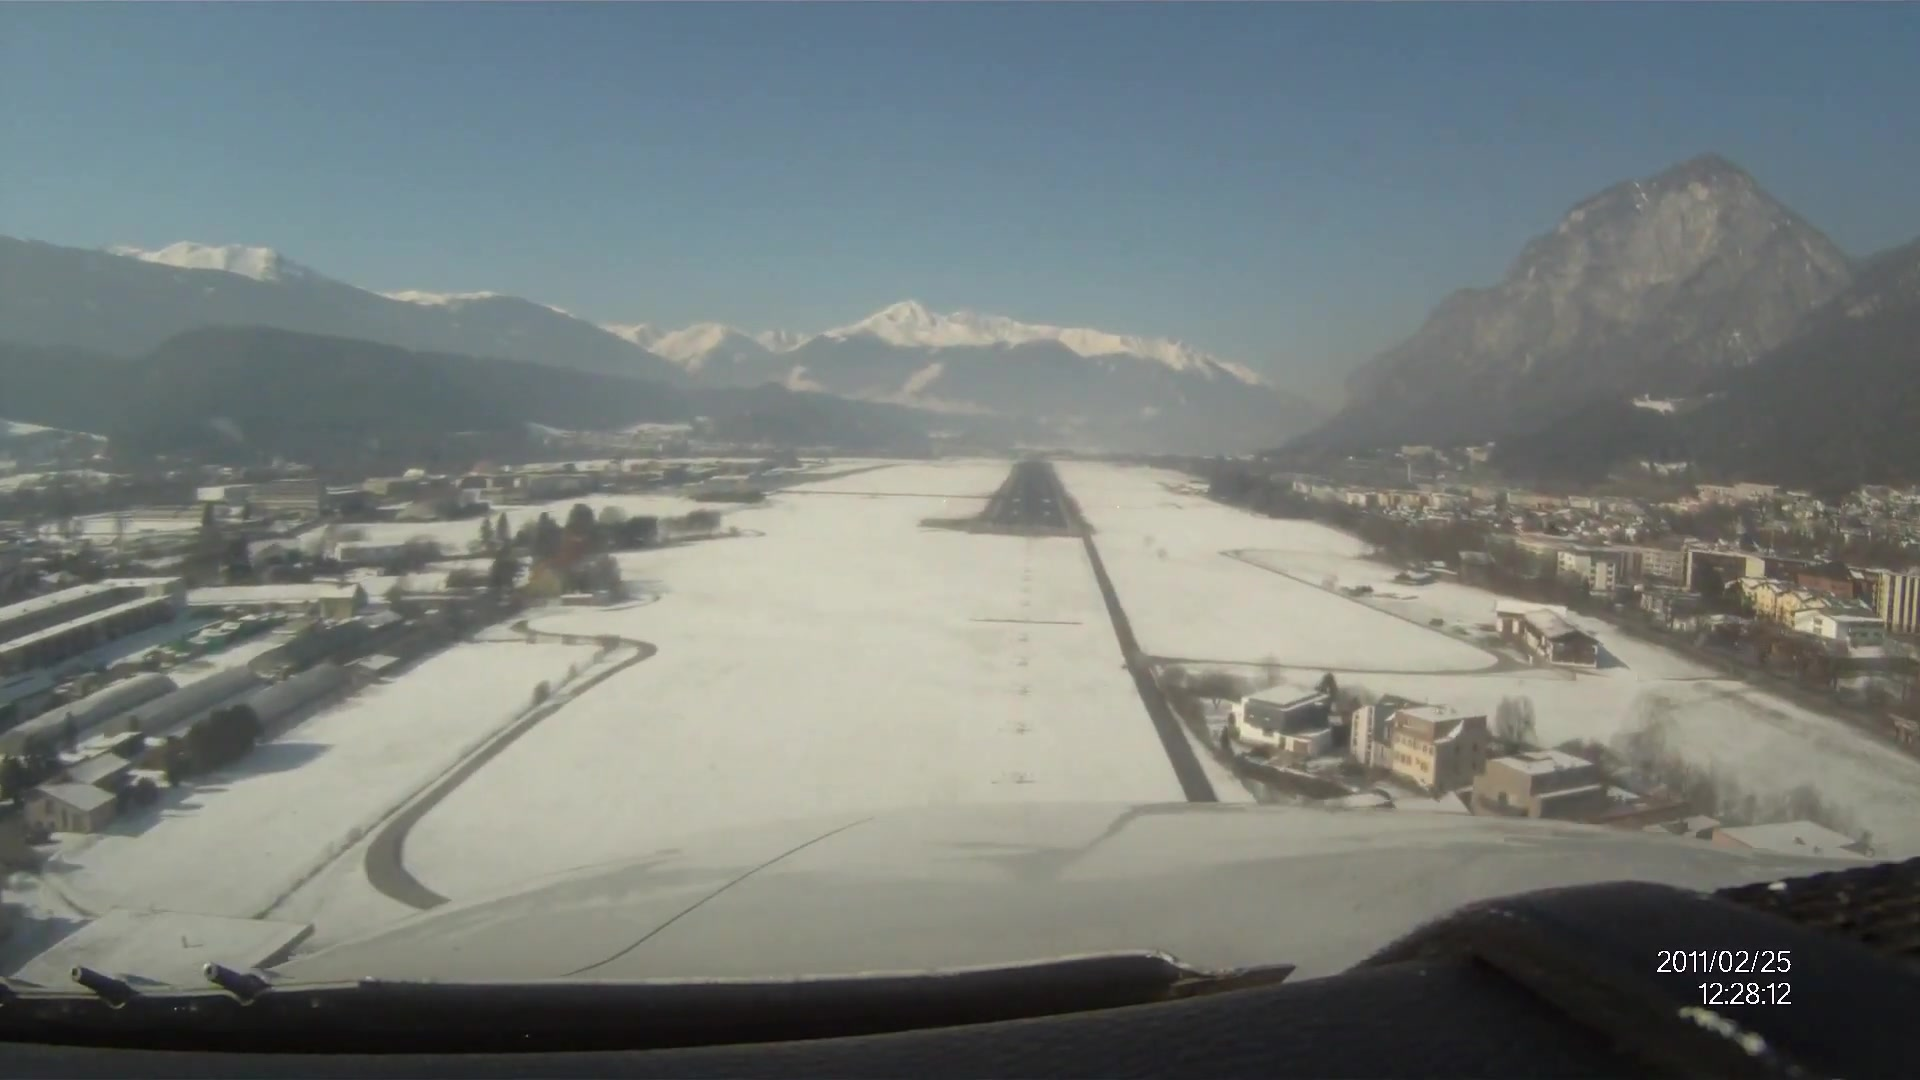runway: (996, 462, 1069, 530)
